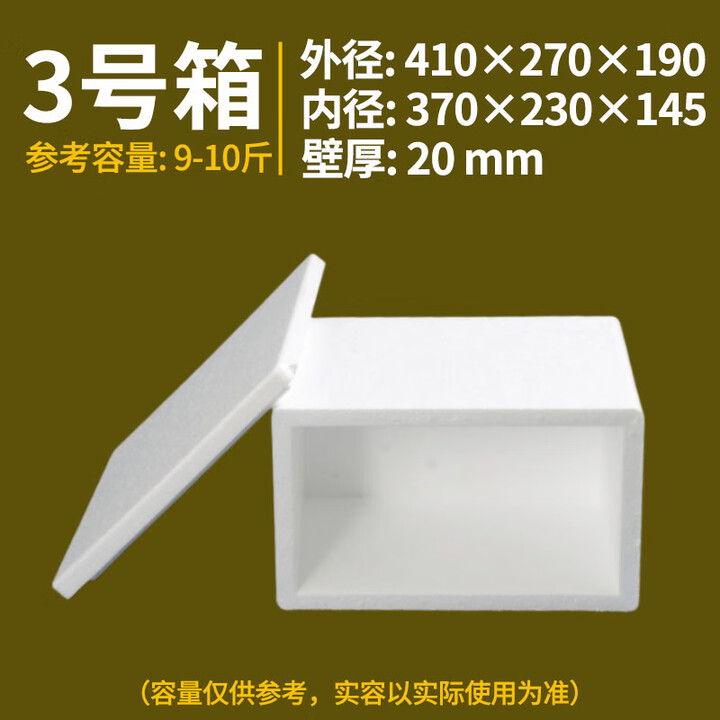Boxes: (53, 255, 644, 611)
